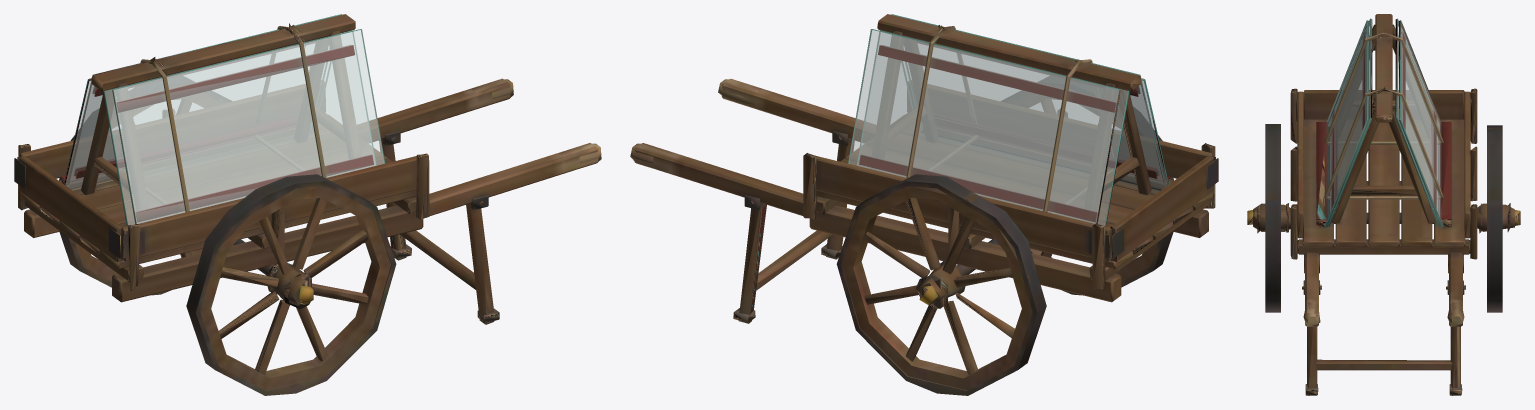
The model's file is glass-cart.low.glb.
The picture shows the model from 3 angles, left to right: view 1: azimuth 30°, elevation 25°; view 2: azimuth 150°, elevation 25°; view 3: azimuth 270°, elevation 25°; orthographic projection. The views are drawn at different scales.
Visible parts, largest first — view 1: glass-cart; view 2: glass-cart; view 3: glass-cart.
Part boxes in pixels (x1,y1,x2,y2): glass-cart: (14,14,601,395); glass-cart: (630,14,1218,395); glass-cart: (1247,14,1520,395).
Size of the model in its own units: 1.61 by 0.9536 by 0.9499.
Materials: 2 (1 with a texture image).
